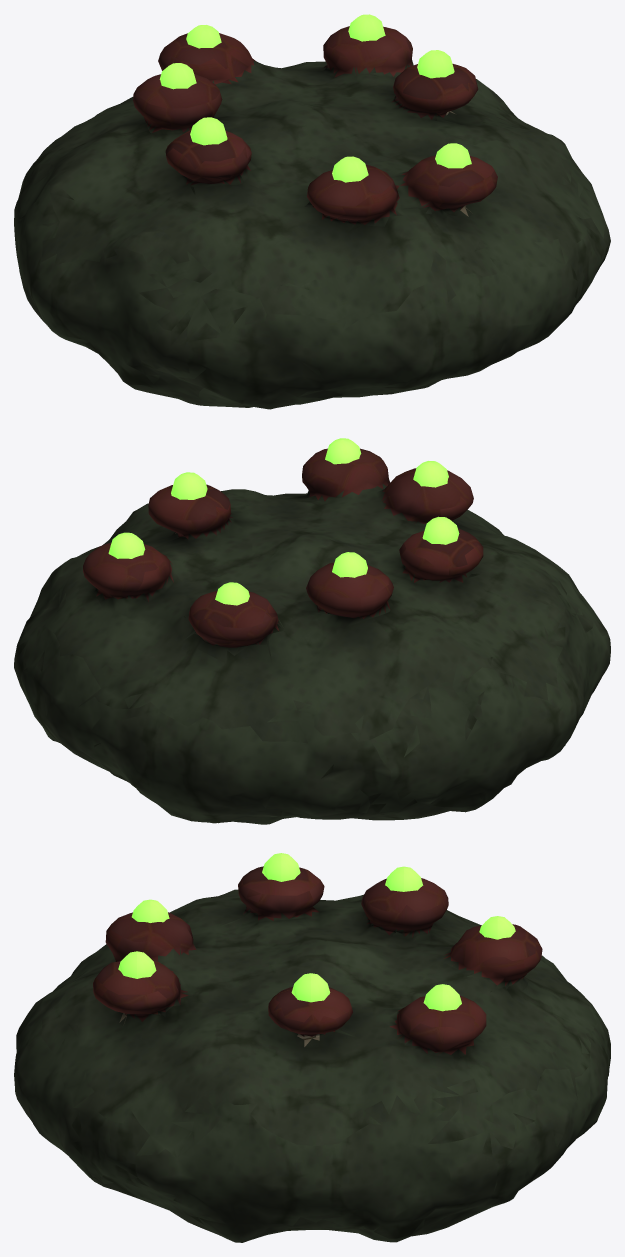
Rendered from sporemine.glb.
3 views of the same model, one above another, from view 1: azimuth 30°, elevation 25°; view 2: azimuth 150°, elevation 25°; view 3: azimuth 270°, elevation 25° (orthographic). The views are drawn at different scales.
Visible parts, largest first — view 1: Base; view 2: Base; view 3: Base.
Part boxes in pixels (x1,y1,x2,y2): Base: (14,14,610,409); Base: (14,438,610,824); Base: (14,853,610,1242).
Bounding box in the file's own units: 0.9364 × 0.4758 × 0.9288.
4 materials, 4 textured.
